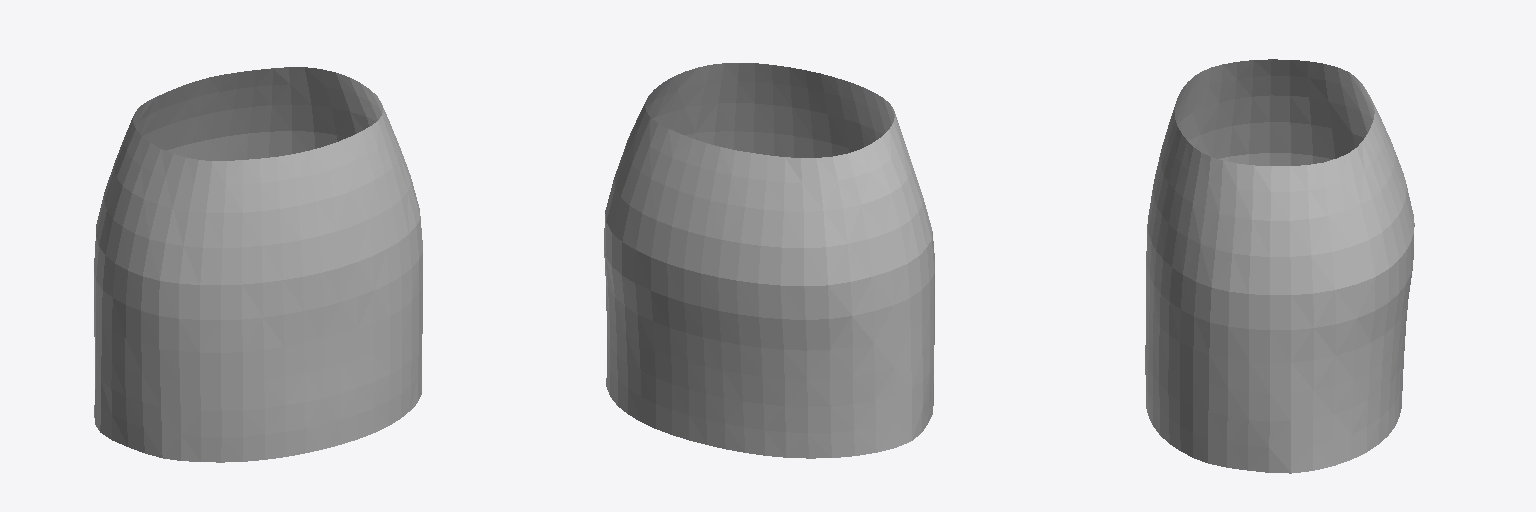
Rendered from 8_skirtshortnarrow.obj.
3 views of the same model, side by side, from view 1: azimuth 30°, elevation 25°; view 2: azimuth 150°, elevation 25°; view 3: azimuth 270°, elevation 25° (orthographic).
Visible parts, largest first — view 1: skirtfront, skirtback, skirtbackright, skirtbackleft; view 2: skirtback, skirtbackleft, skirtfront, skirtbackright; view 3: skirtfront, skirtbackright, skirtbackleft, skirtback.
Part boxes in pixels (x1,y1,x2,y2): skirtfront: (100, 84, 422, 462); skirtback: (141, 68, 272, 160); skirtbackright: (269, 67, 377, 157); skirtbackleft: (94, 97, 155, 430); skirtback: (635, 129, 785, 457); skirtbackleft: (781, 144, 911, 458); skirtfront: (645, 63, 934, 440); skirtbackright: (604, 90, 667, 421); skirtfront: (1145, 59, 1291, 473); skirtbackright: (1290, 141, 1398, 472); skirtbackleft: (1290, 60, 1374, 165); skirtback: (1363, 87, 1414, 435).
Bounding box in the file's own units: 14.1 × 12.98 × 10.97.